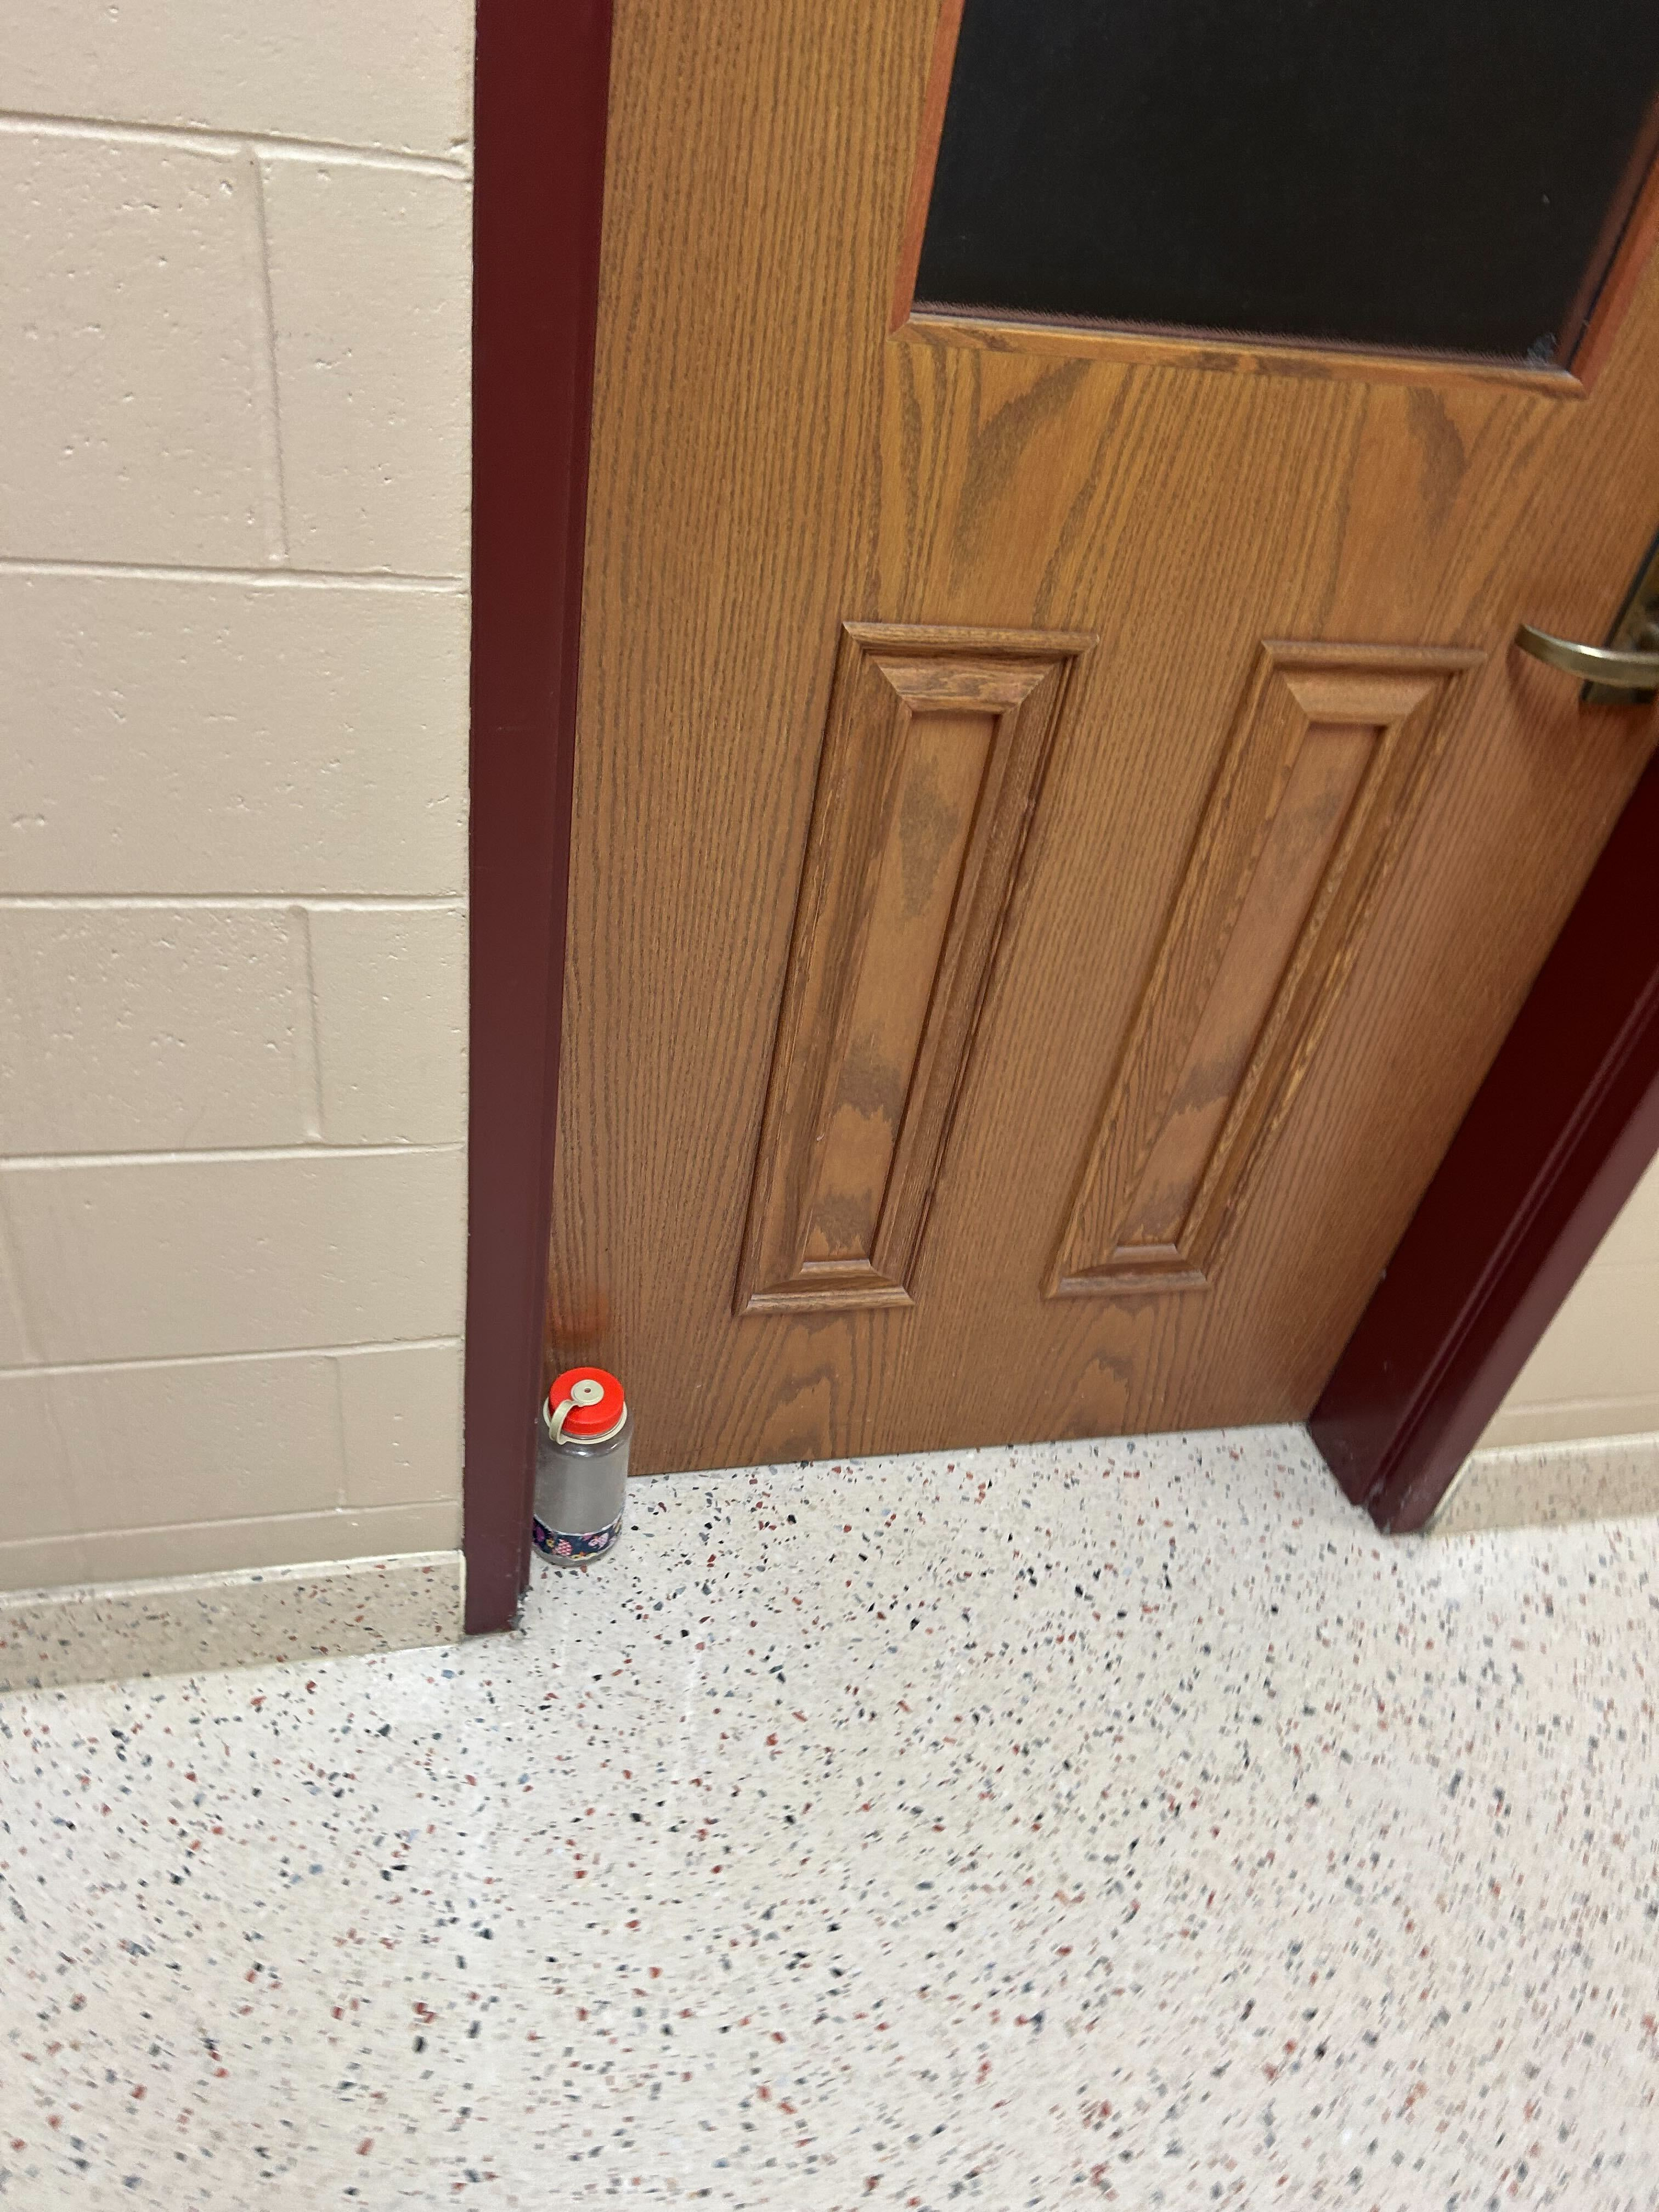bottle: (526, 1353, 636, 1576)
